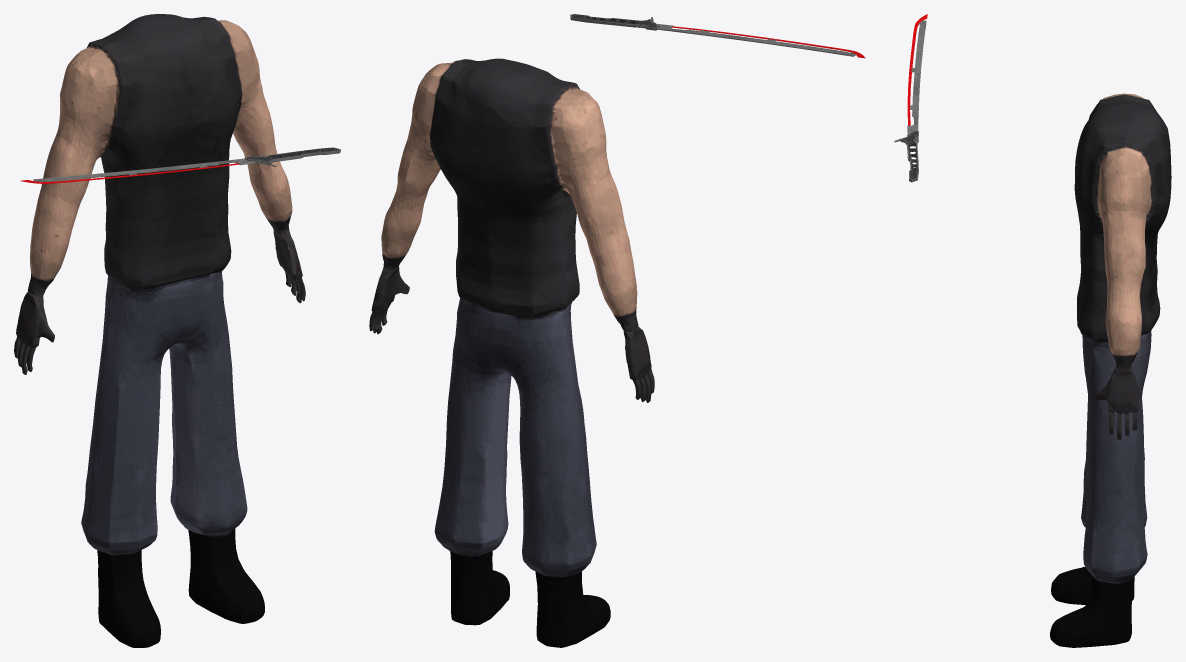
3 views of the same model, side by side, from view 1: azimuth 30°, elevation 25°; view 2: azimuth 150°, elevation 25°; view 3: azimuth 270°, elevation 25° (orthographic). The views are drawn at different scales.
Visible parts, largest first — view 1: Cube.008, Cube.002, Cube.011; view 2: Cube.008, Cube.002; view 3: Cube.008, Cube.002, Cube.011.
Part boxes in pixels (<box>): Cube.008: <box>14,14,305,647</box>; Cube.002: <box>33,147,340,182</box>; Cube.011: <box>20,163,239,183</box>; Cube.008: <box>369,58,654,647</box>; Cube.002: <box>570,14,856,56</box>; Cube.008: <box>1050,93,1171,647</box>; Cube.002: <box>894,20,926,182</box>; Cube.011: <box>907,14,927,125</box>.
Bounding box in the file's own units: 153 × 219 × 108.
